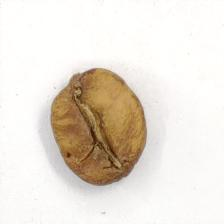NG: (58, 80, 133, 168)
